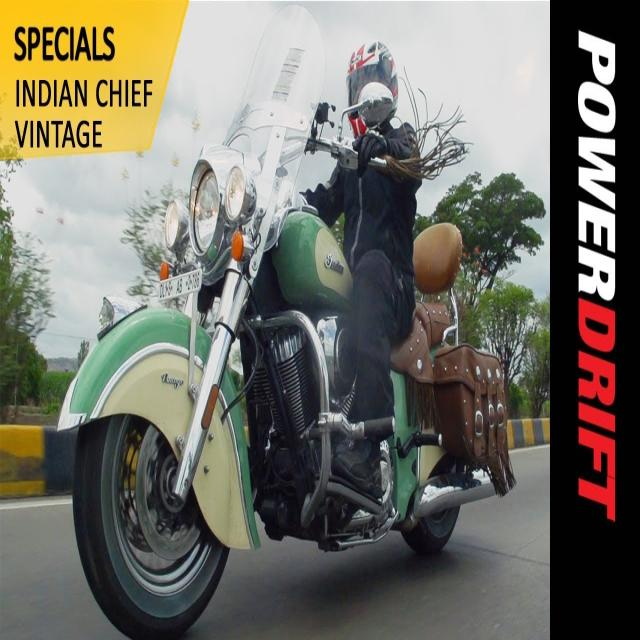motorcycle: (59, 4, 515, 637)
